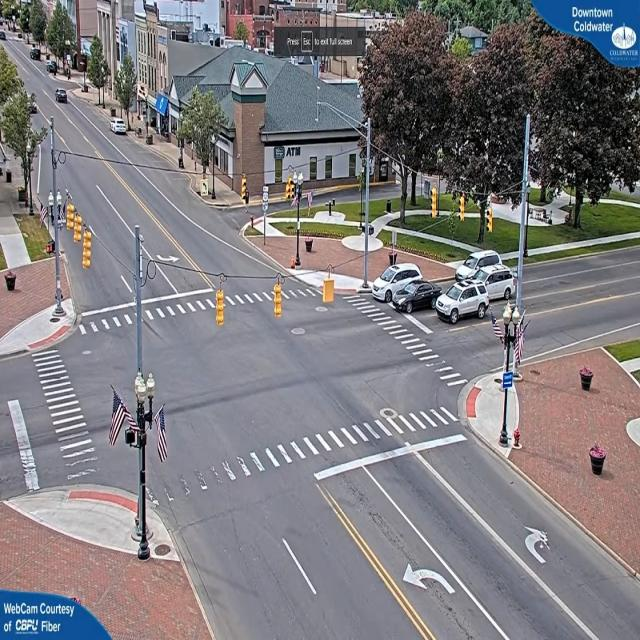car: (461, 252, 518, 299), (437, 280, 490, 324), (392, 273, 438, 313)
